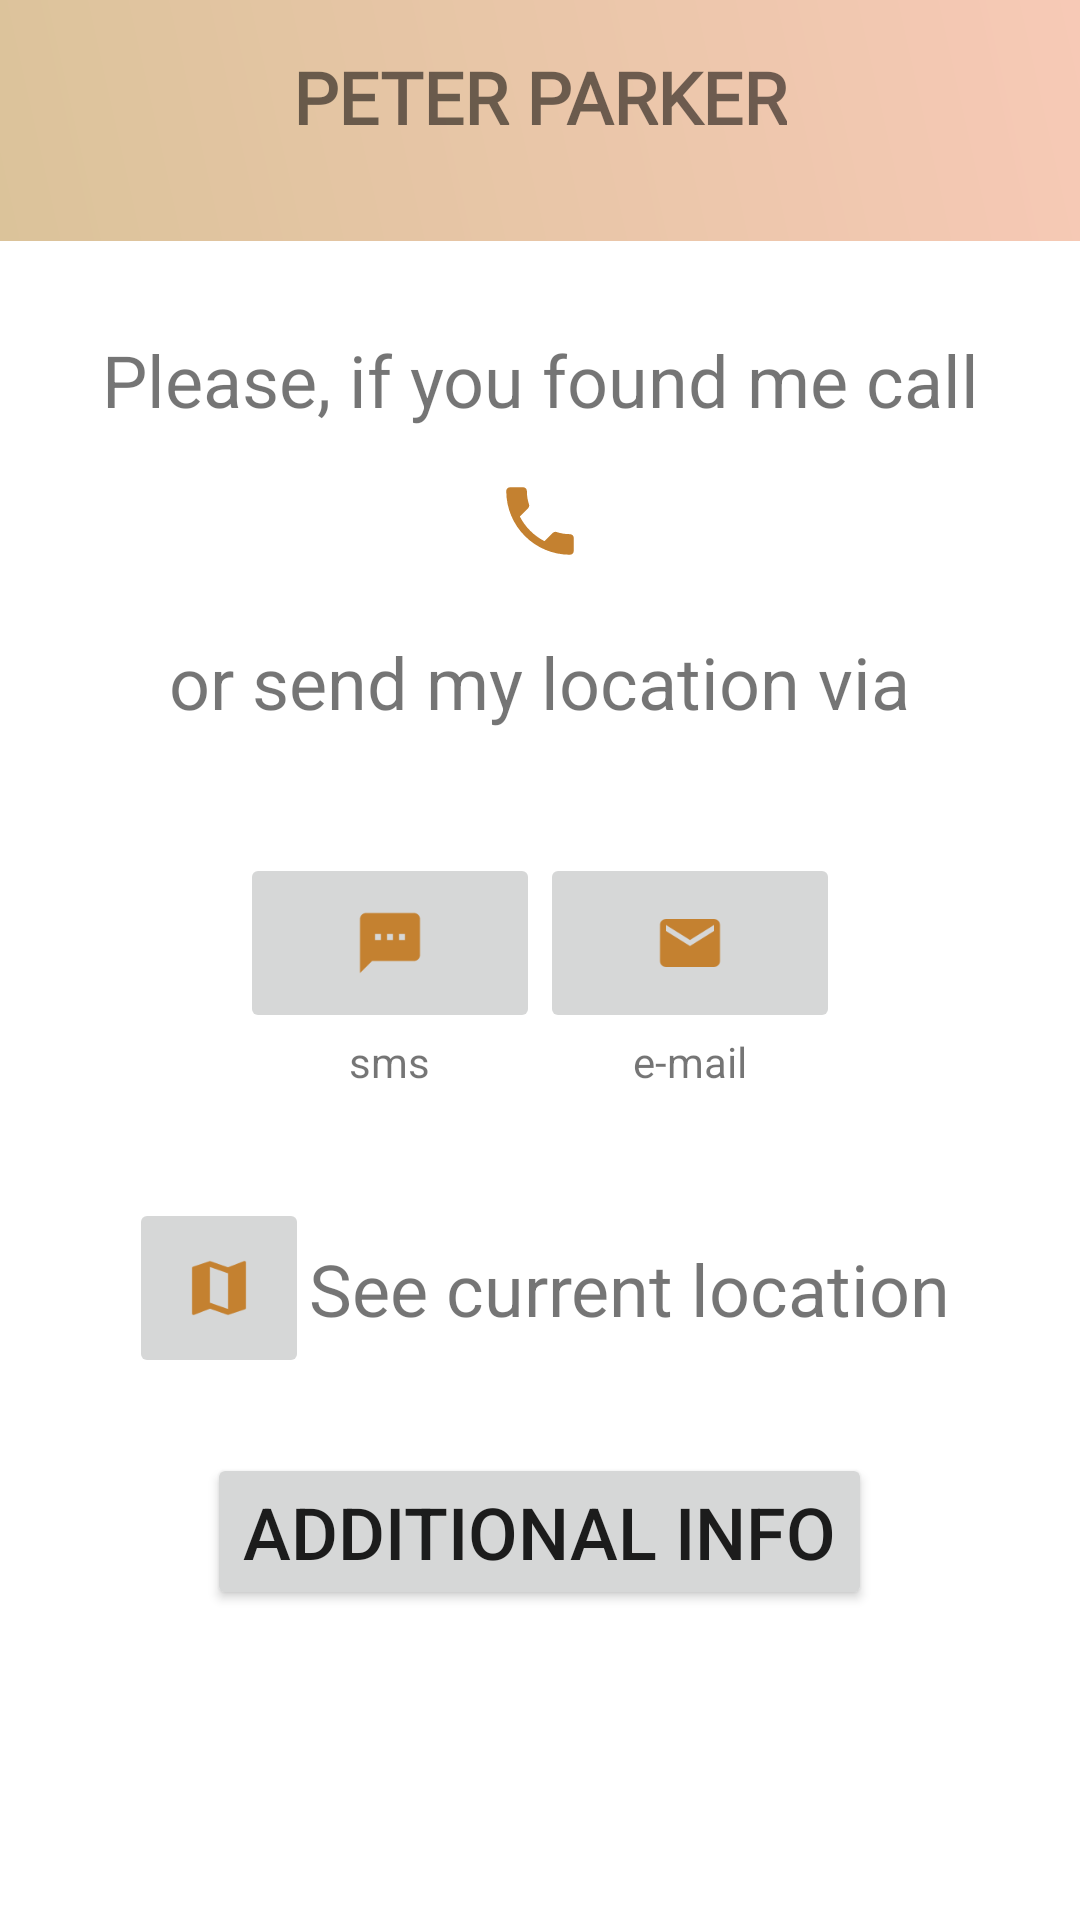

Icons on this 1080 x 1920 Android screen, each with its box as (x1, y1, x2, y2):
local phone: (506, 487, 574, 555)
map: (141, 1216, 297, 1360)
